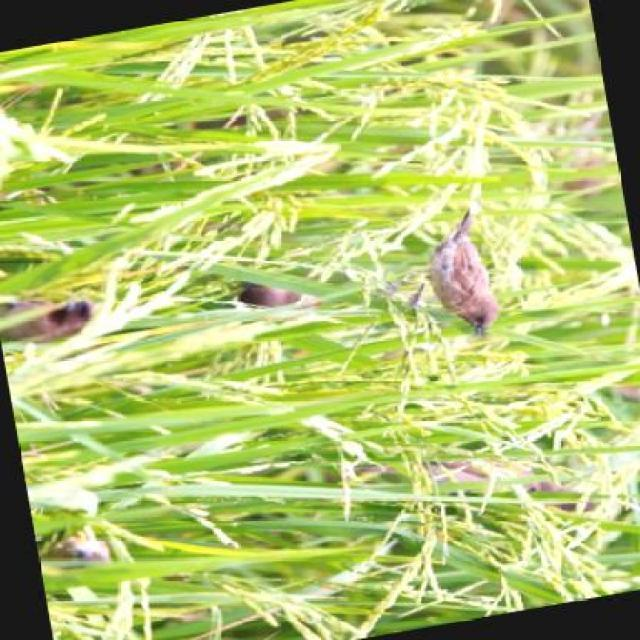Bird: (420, 211, 501, 343), (0, 299, 93, 343), (234, 278, 308, 310)
